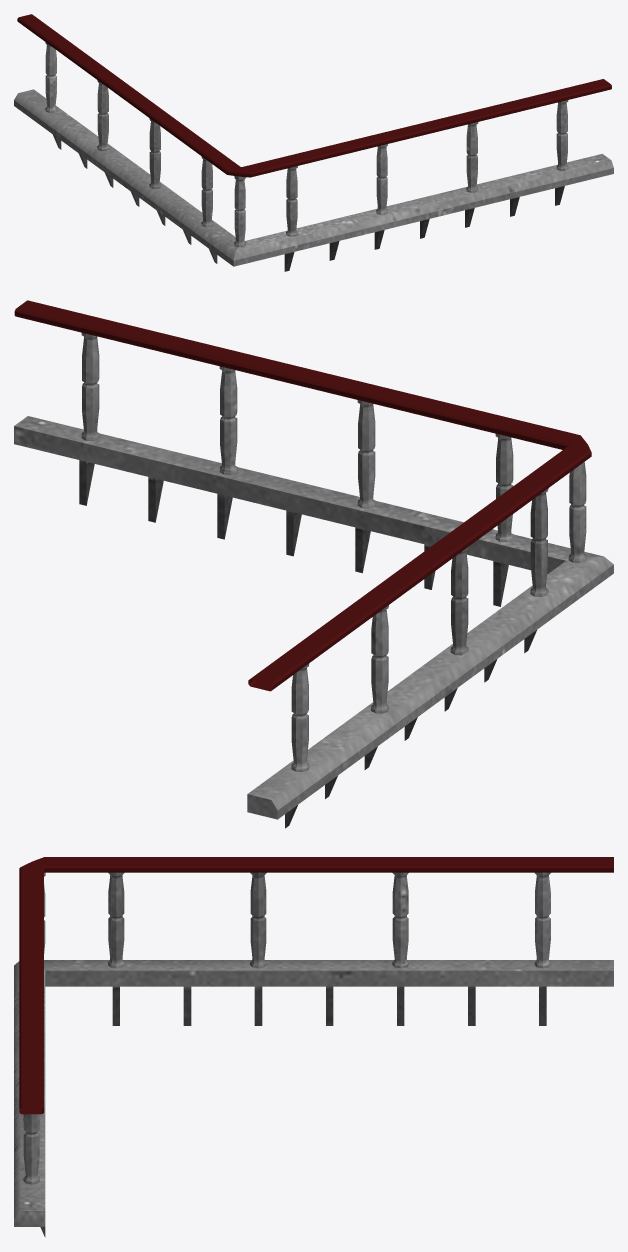
Rendered from Corner_L_Module.obj.
The picture shows the model from 3 angles, top to bottom: view 1: azimuth 30°, elevation 25°; view 2: azimuth 150°, elevation 25°; view 3: azimuth 270°, elevation 25°; orthographic projection. The views are drawn at different scales.
Visible parts, largest first — view 1: CornerRail1; view 2: CornerRail1; view 3: CornerRail1.
Boxes of the visible parts, x1,y1,x2,y2 form: CornerRail1: (14, 14, 613, 271); CornerRail1: (14, 300, 613, 828); CornerRail1: (14, 857, 613, 1237).
Size of the model in its own units: 207 by 60.61 by 207.
Materials: 1 (1 with a texture image).
